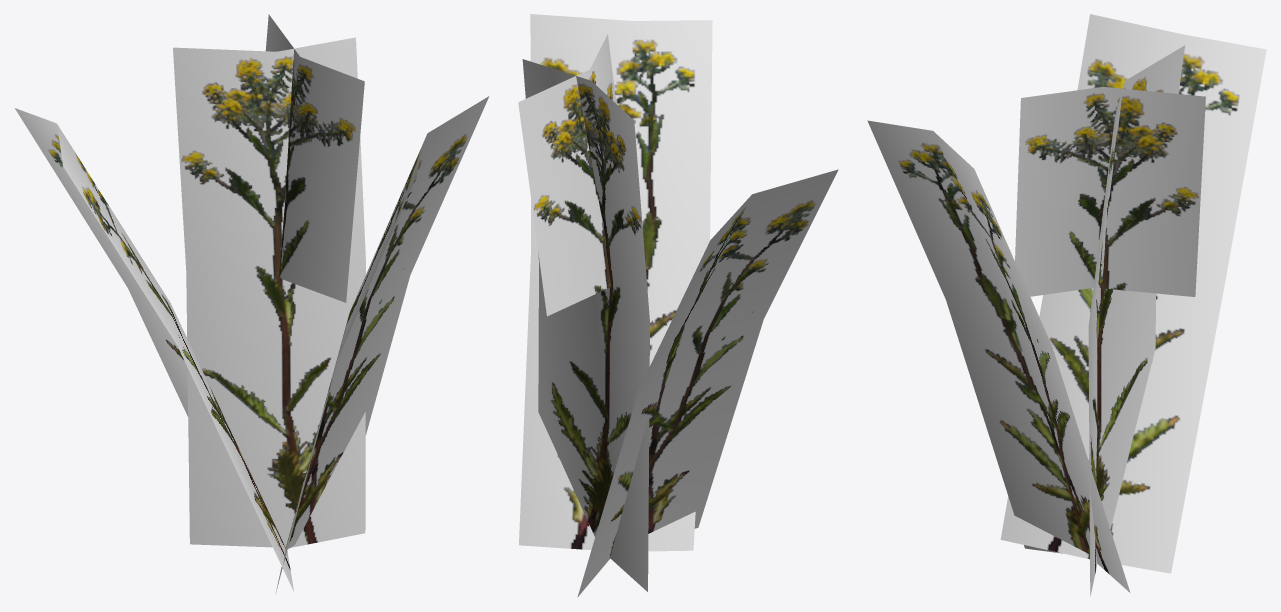
File: plant02c.fbx
The picture shows the model from 3 angles, left to right: view 1: azimuth 30°, elevation 25°; view 2: azimuth 150°, elevation 25°; view 3: azimuth 270°, elevation 25°; orthographic projection.
Visible parts, largest first — view 1: plant02c; view 2: plant02c; view 3: plant02c.
Boxes of the visible parts, x1,y1,x2,y2 form: plant02c: (15, 14, 489, 593); plant02c: (518, 14, 838, 597); plant02c: (867, 14, 1266, 596).
Bounding box in the file's own units: 0.3574 × 0.4646 × 0.3382.
